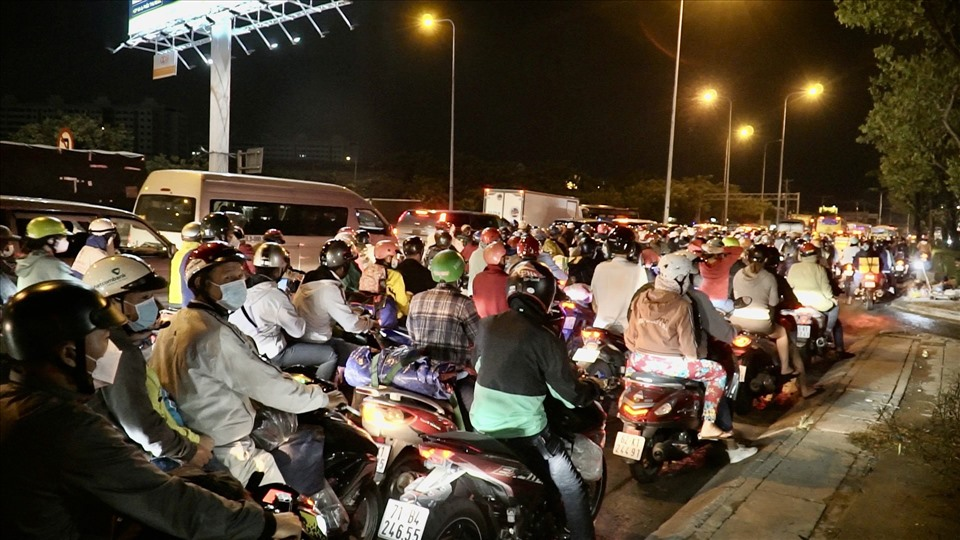Bien-so: (378, 498, 432, 539), (611, 430, 645, 464), (574, 346, 603, 363), (798, 324, 812, 338)
